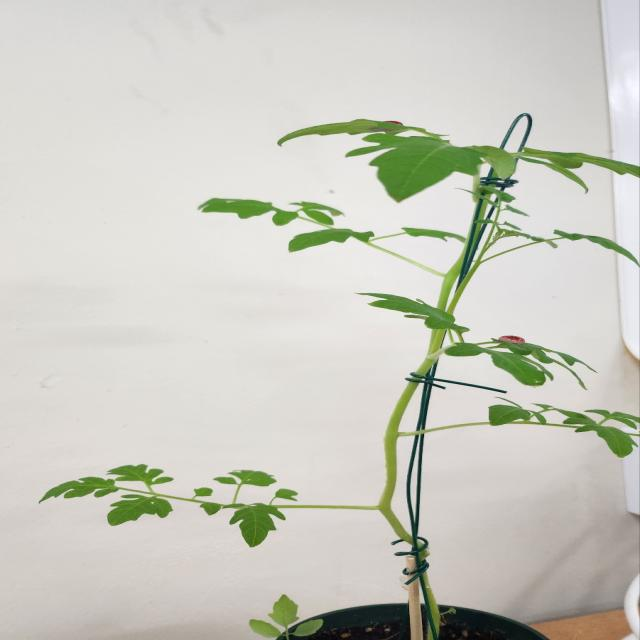bug: (483, 324, 543, 361), (358, 114, 401, 148)
